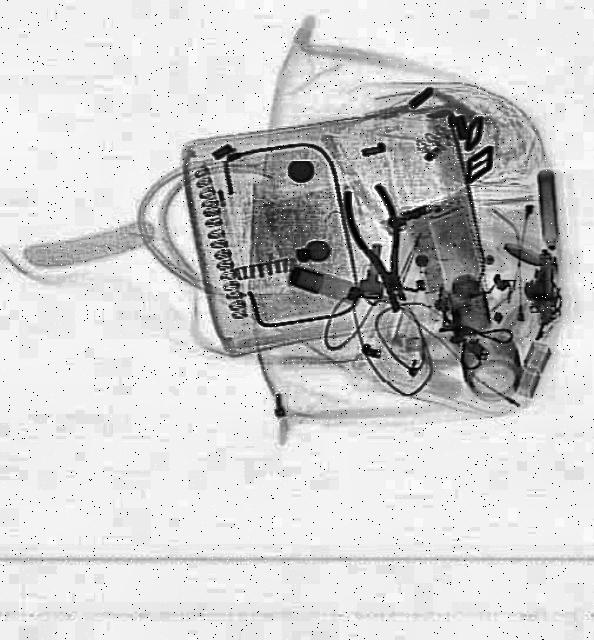Pliers: (336, 182, 424, 318)
